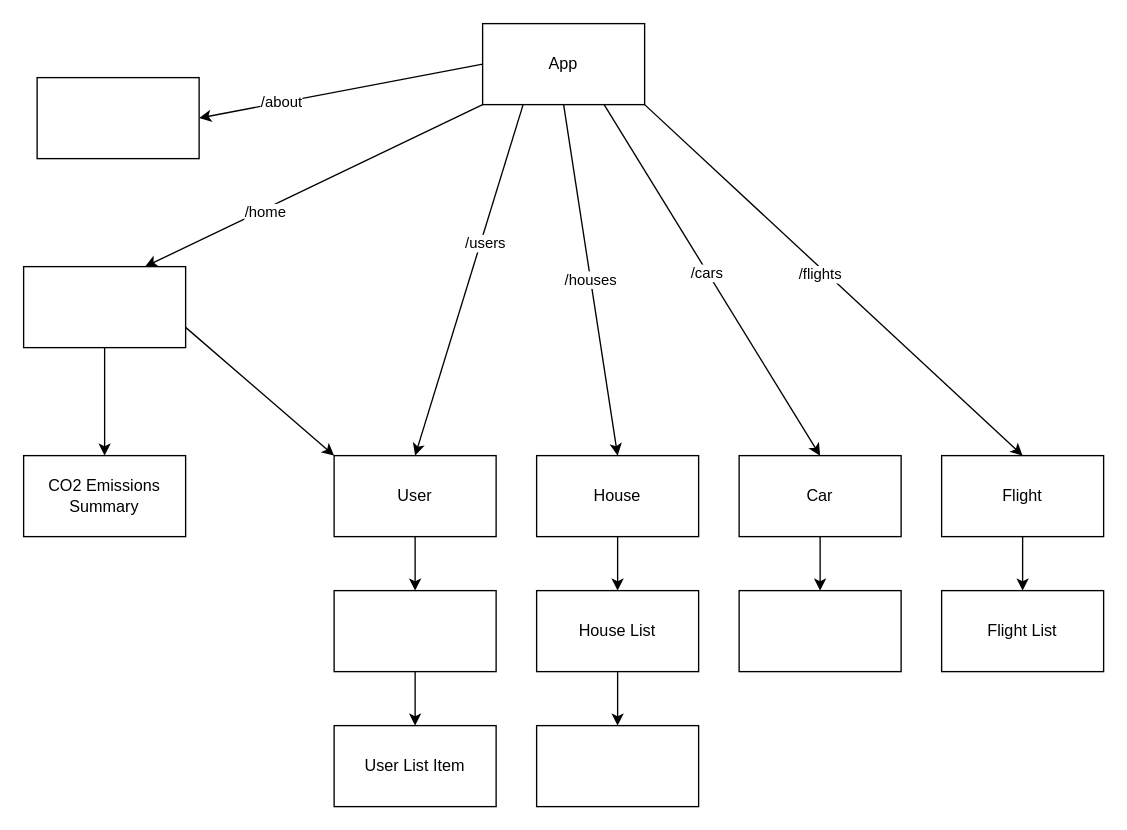
The diagram is 1127 pixels wide and 830 high, and some of its shapes have lost their labels. Here are the shapes that lost their labels. From the top down, the box of each, then its label:
(36, 76, 199, 159): About
(22, 265, 186, 348): Home
(333, 589, 496, 672): User List
(738, 589, 901, 672): Car List
(535, 724, 699, 807): House List Item
